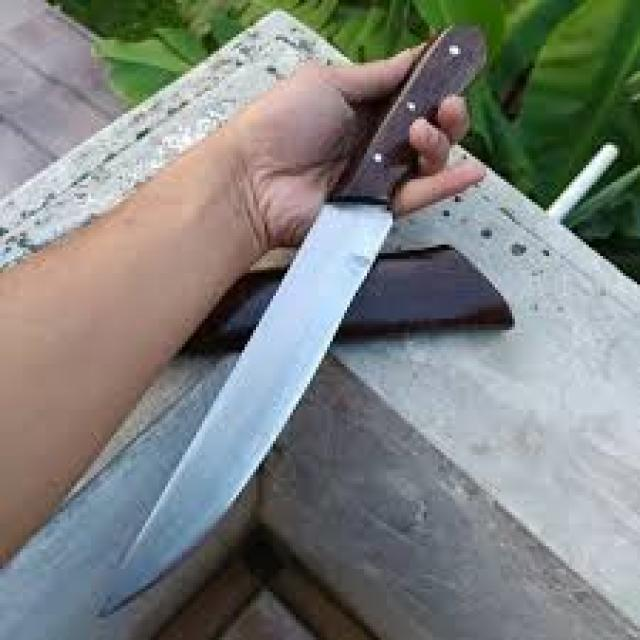Knife: (100, 28, 484, 614)
